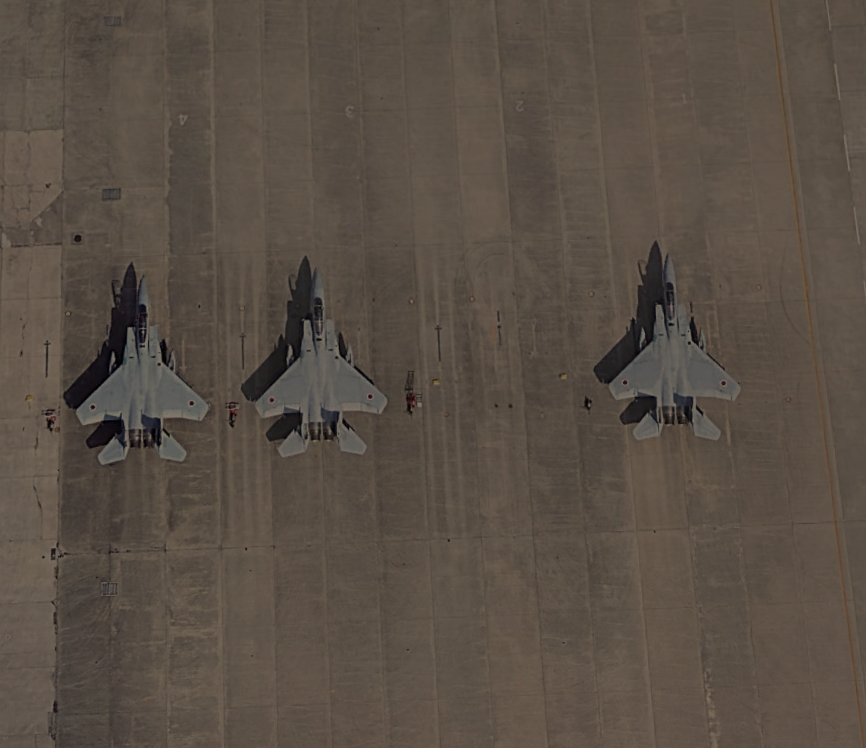A13: (72, 260, 212, 476), (250, 255, 390, 471), (604, 247, 740, 452)
